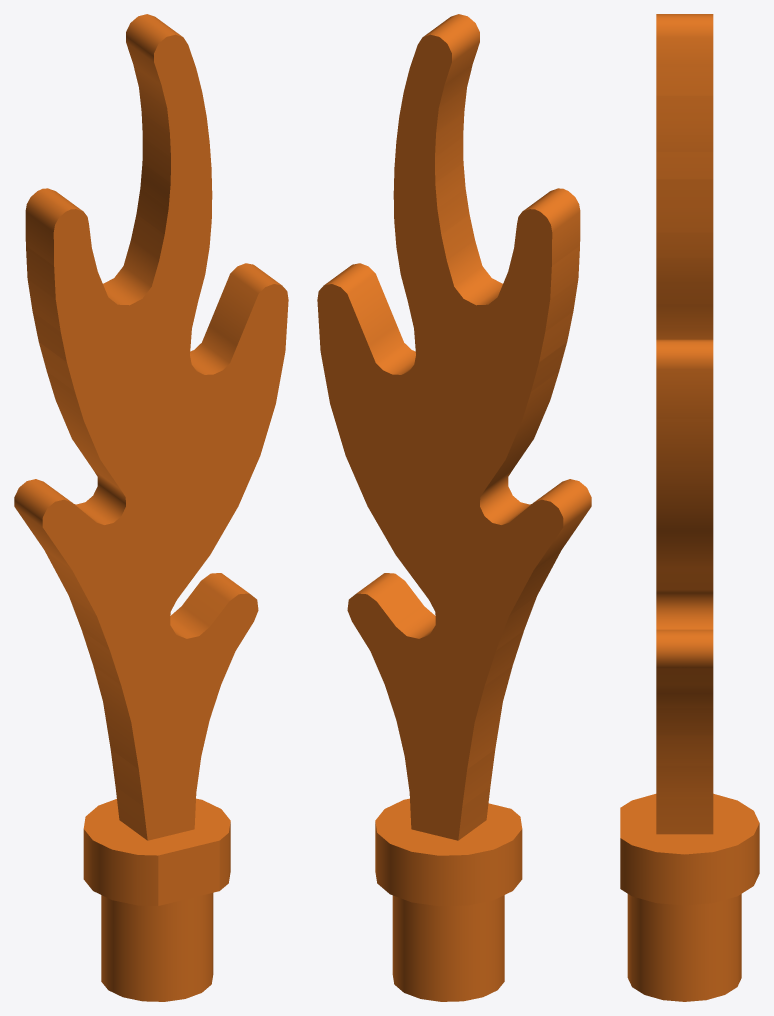
The model's file is Flame.fbx.
3 renders of one model, left to right at view 1: azimuth 30°, elevation 25°; view 2: azimuth 150°, elevation 25°; view 3: azimuth 270°, elevation 25°, orthographic.
Parts seen in each view (by area): view 1: part; view 2: part; view 3: part.
Part boxes in pixels (x1,y1,x2,y2): part: (14, 14, 288, 1001); part: (317, 14, 591, 1001); part: (620, 14, 759, 1001).
Bounding box in the file's own units: 3.9 × 8.04 × 29.78.
